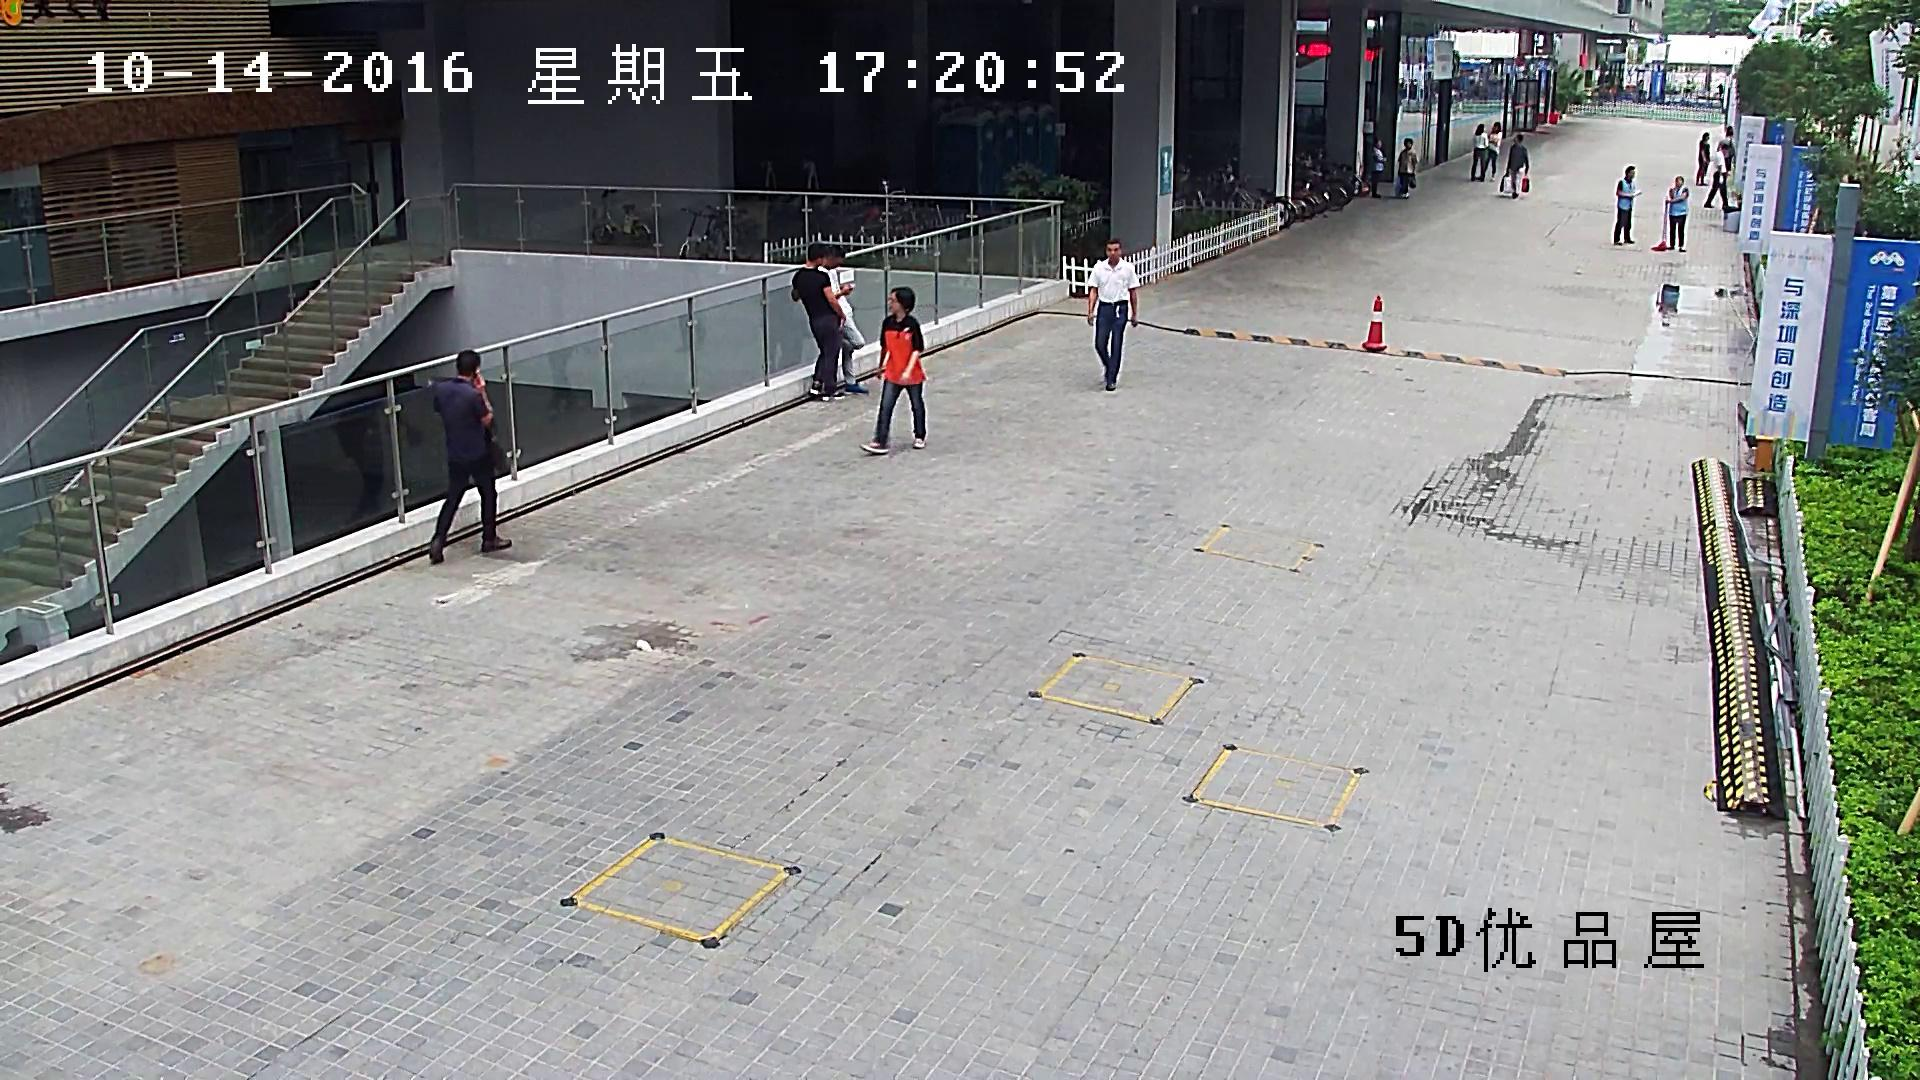person: (429, 349, 512, 563), (861, 286, 929, 455), (334, 397, 423, 516), (1085, 237, 1140, 392), (792, 242, 845, 400), (818, 245, 869, 393), (1651, 177, 1688, 251), (1614, 165, 1640, 245), (1499, 134, 1529, 200), (1667, 175, 1688, 251), (1704, 142, 1727, 209), (1398, 137, 1418, 199), (1470, 123, 1488, 182), (1485, 122, 1502, 181), (1370, 137, 1386, 197), (1716, 125, 1735, 171), (1695, 132, 1710, 186)
